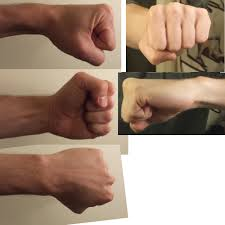fist: (55, 144, 112, 216), (142, 3, 211, 62), (63, 74, 113, 142), (61, 1, 116, 61), (121, 75, 172, 132)
